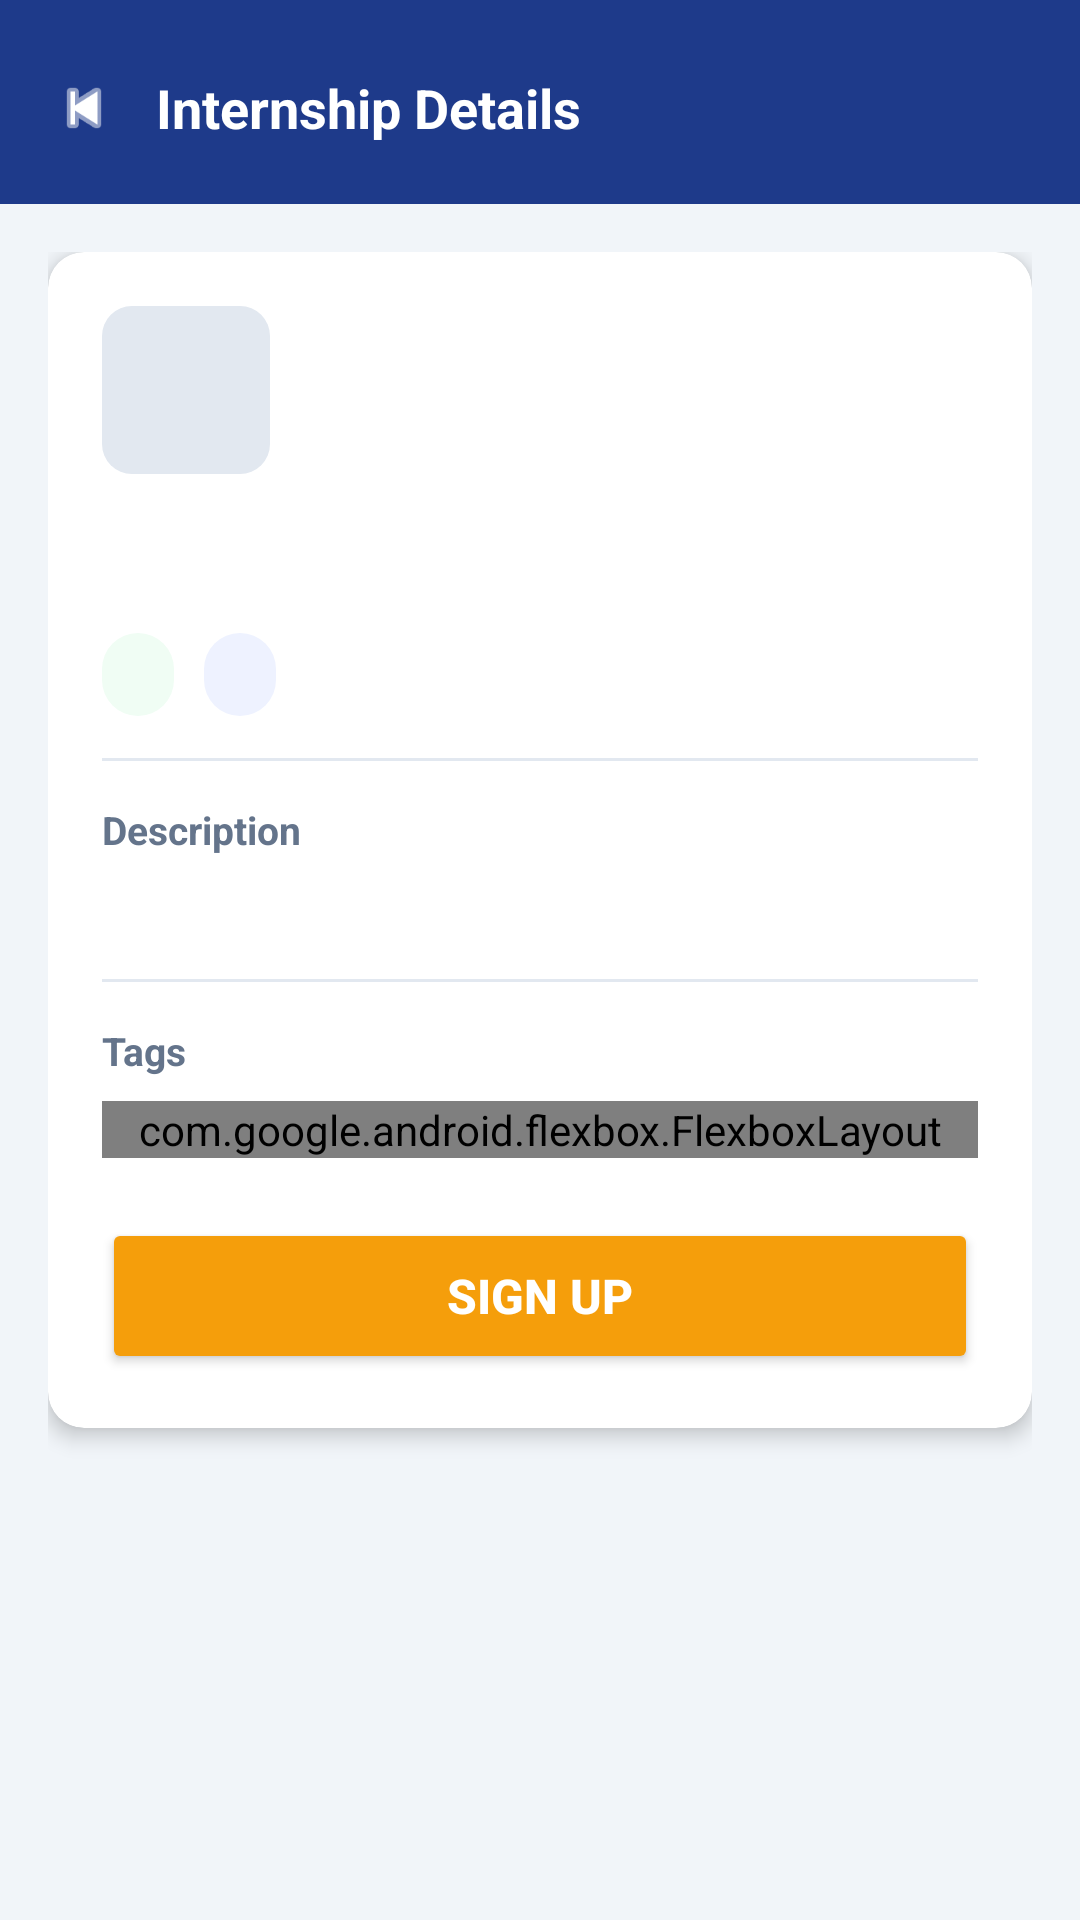

Locate icon controls on the screen. Image size 1080*1920, boxes as bbox=[x1, y1, x2, y2].
previous: bbox=[67, 88, 101, 128]
